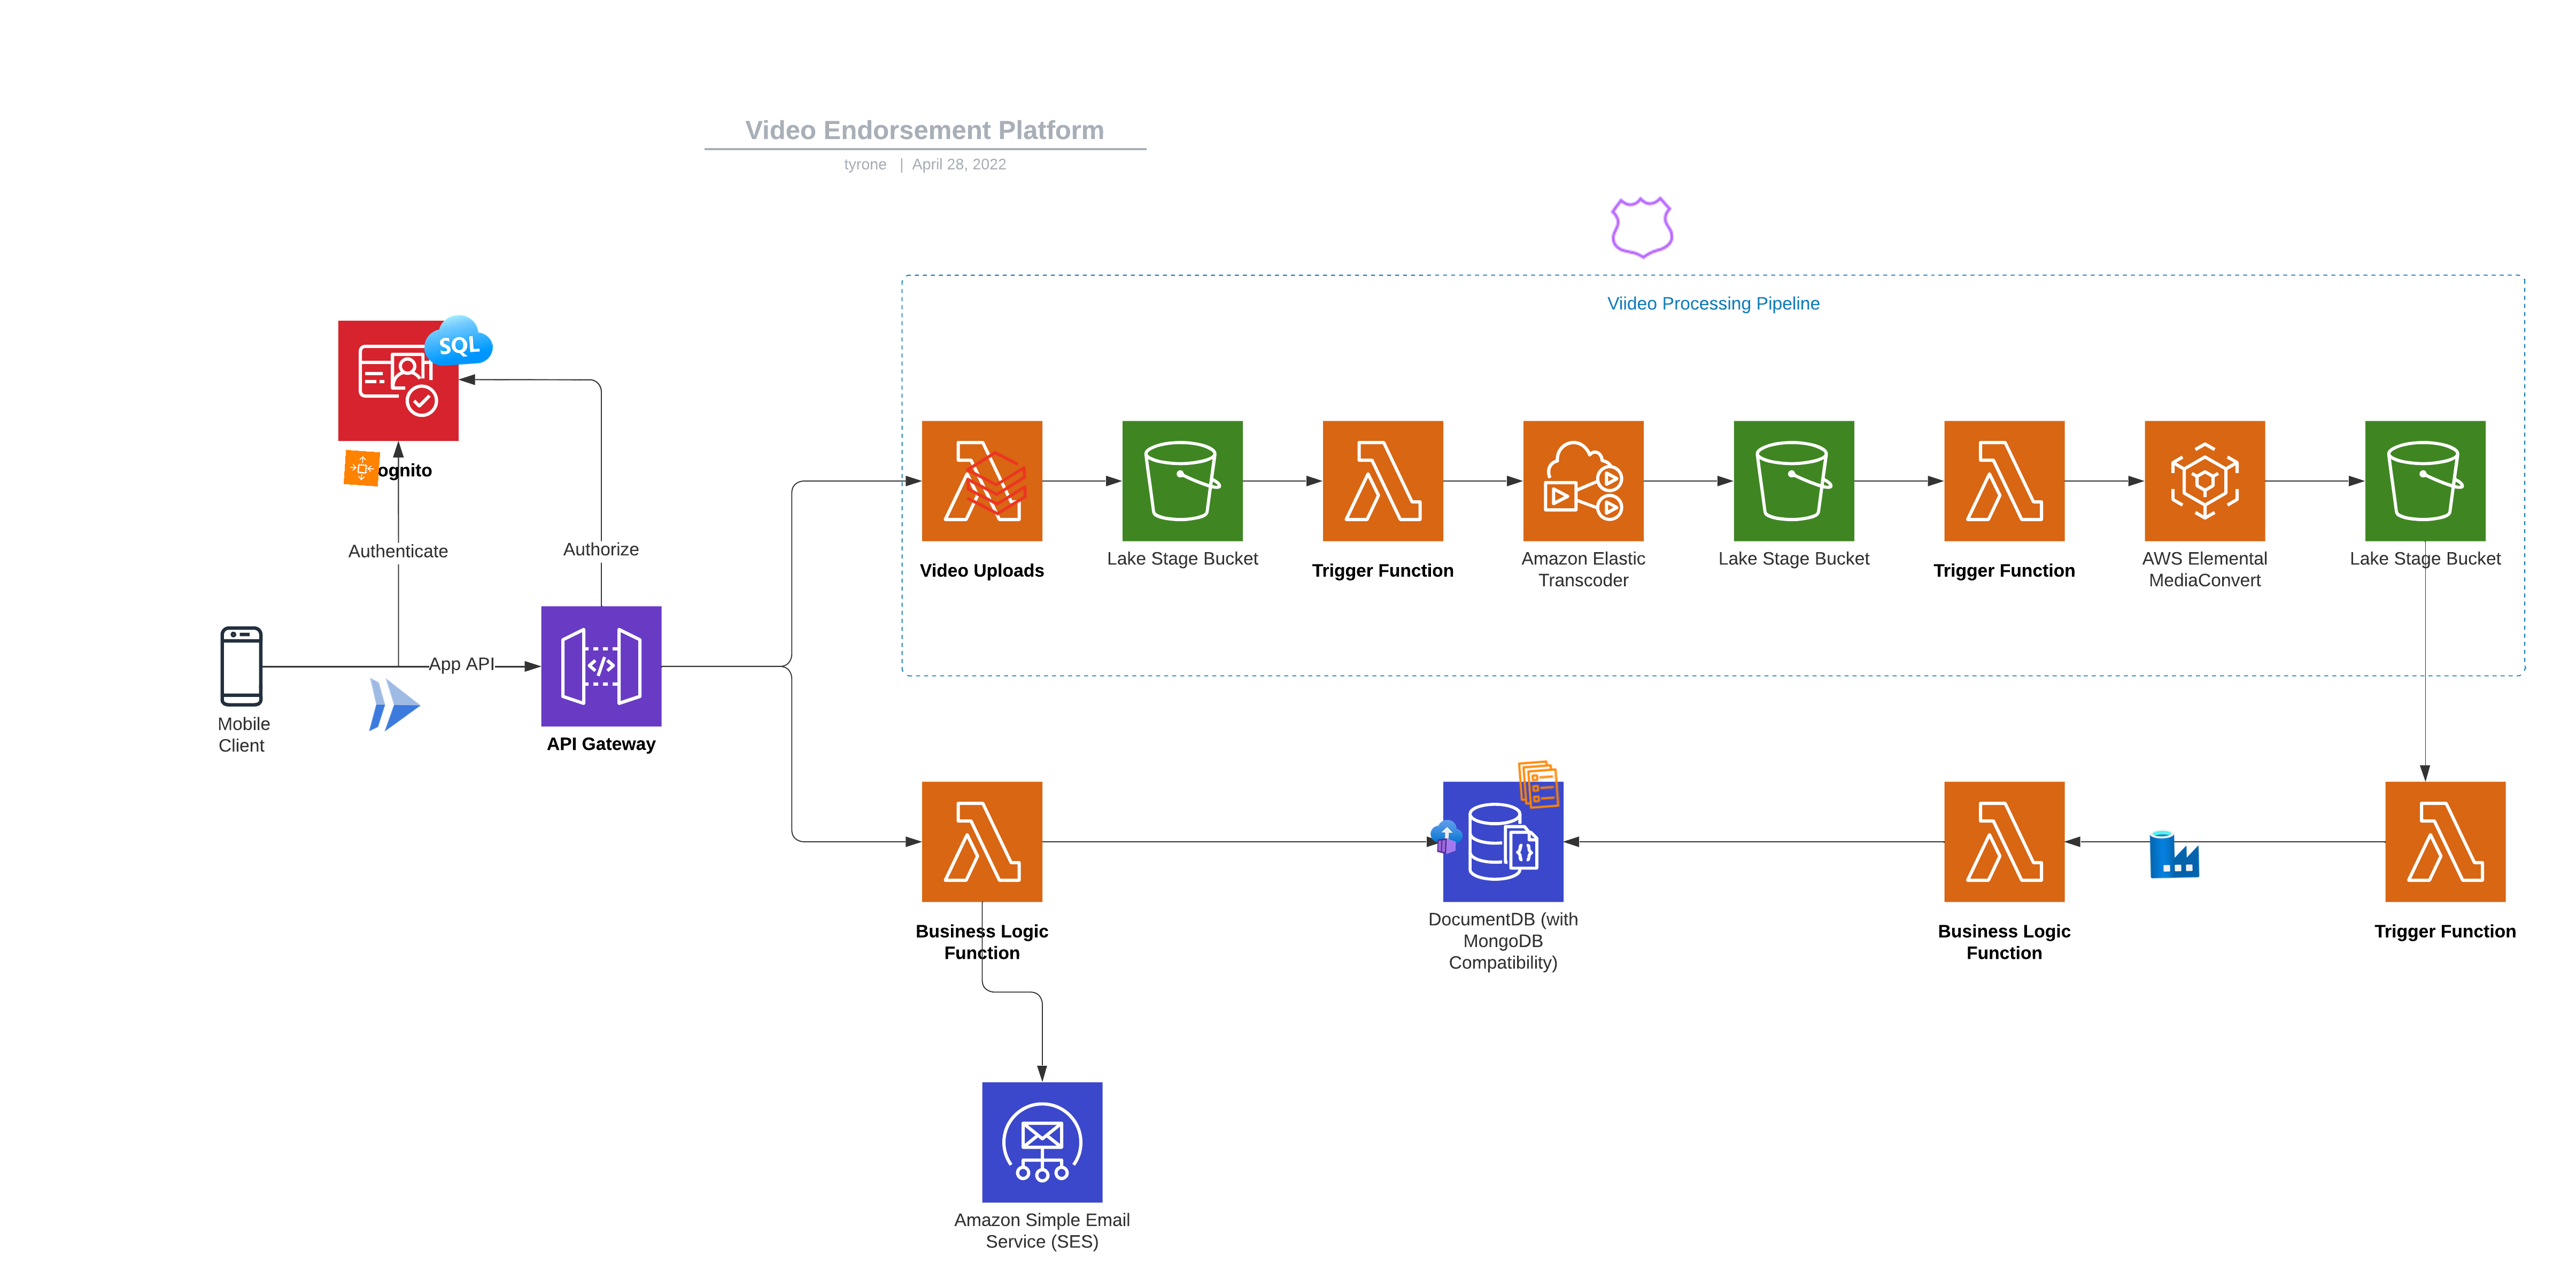aws_amazon_ec2_auto_scaling: (343, 450, 381, 488)
aws_elastic_container_service_service: (1511, 757, 1567, 813)
aws_route_53_hosted_zone: (1607, 192, 1679, 264)
azure_container_instances: (1428, 819, 1465, 855)
azure_data_factories: (2147, 827, 2201, 880)
azure_databricks: (961, 448, 1032, 519)
azure_sql: (421, 304, 495, 378)
gcp_cloud_run: (358, 670, 429, 740)
